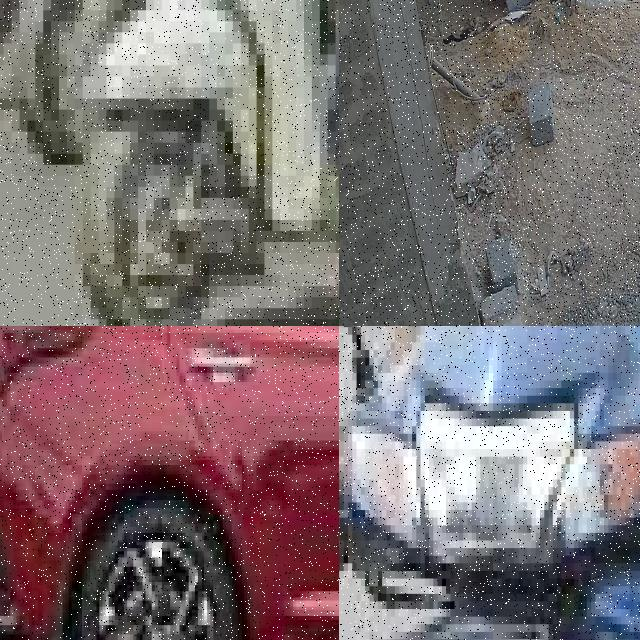bike: (339, 326, 640, 640), (75, 0, 339, 326), (27, 0, 185, 165), (0, 0, 98, 176)
car: (0, 326, 339, 640)
